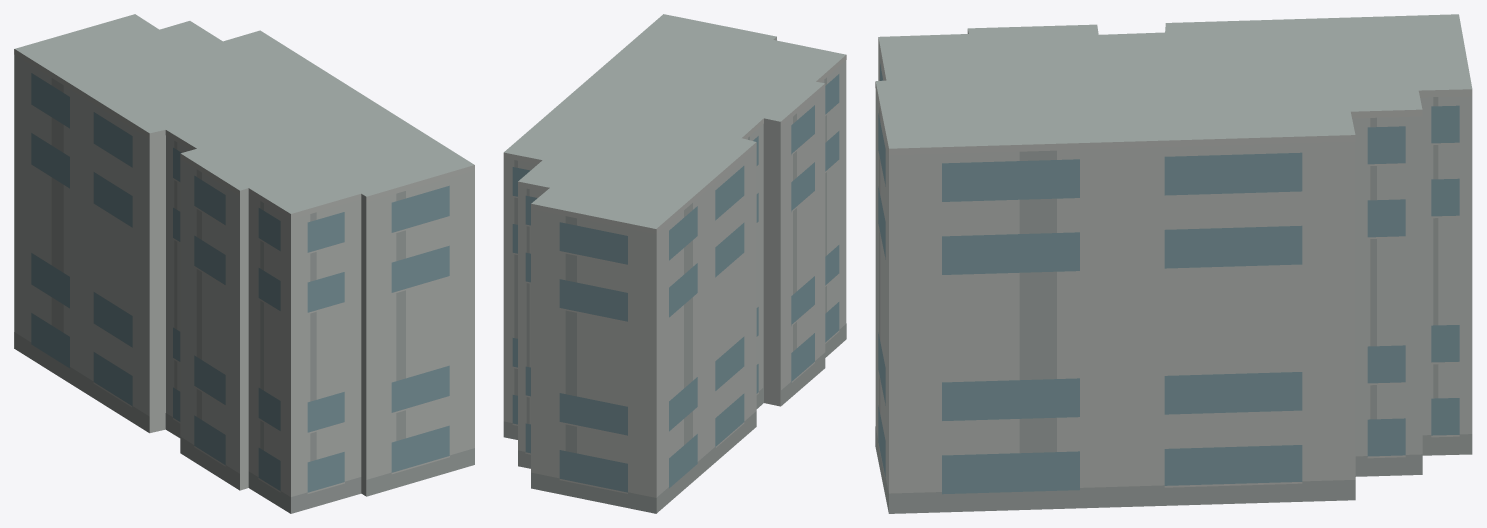
File: survey-upis-32700872.glb
The picture shows the model from 3 angles, left to right: view 1: azimuth 30°, elevation 25°; view 2: azimuth 150°, elevation 25°; view 3: azimuth 270°, elevation 25°; orthographic projection. The views are drawn at different scales.
Parts seen in each view (by area): view 1: survey-upis-32700872.tmp; view 2: survey-upis-32700872.tmp; view 3: survey-upis-32700872.tmp.
Boxes of the visible parts, x1=… form: survey-upis-32700872.tmp: x1=14, y1=14, x2=474, y2=513; survey-upis-32700872.tmp: x1=503, y1=14, x2=846, y2=513; survey-upis-32700872.tmp: x1=875, y1=14, x2=1472, y2=513.
Bounding box in the file's own units: 10.29 × 13 × 19.27.
